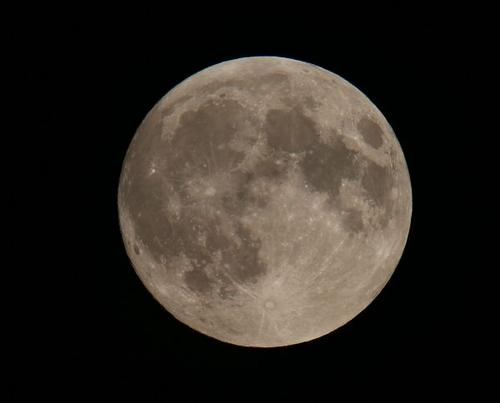moon: (115, 54, 415, 348)
